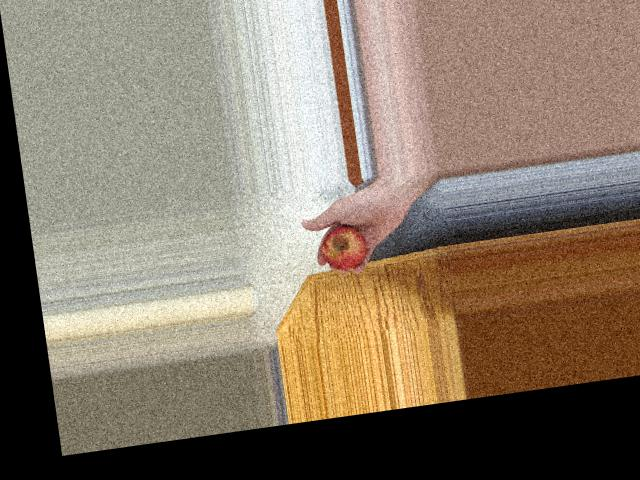apple: (315, 216, 375, 271)
